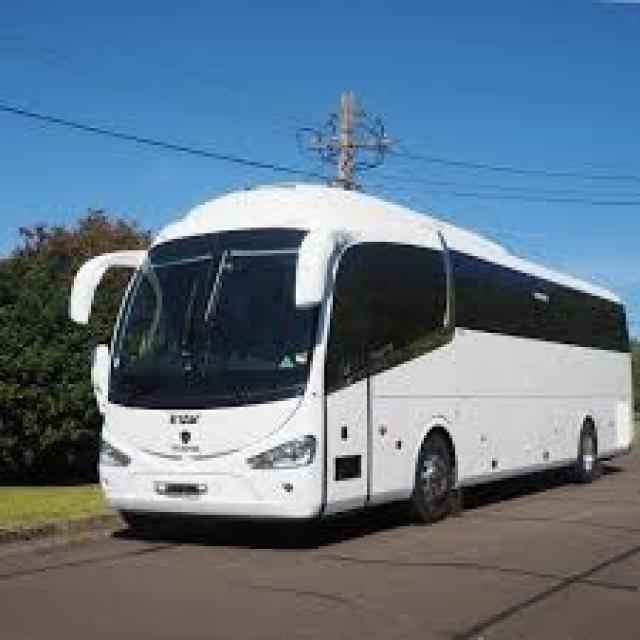bus: (45, 156, 640, 534)
